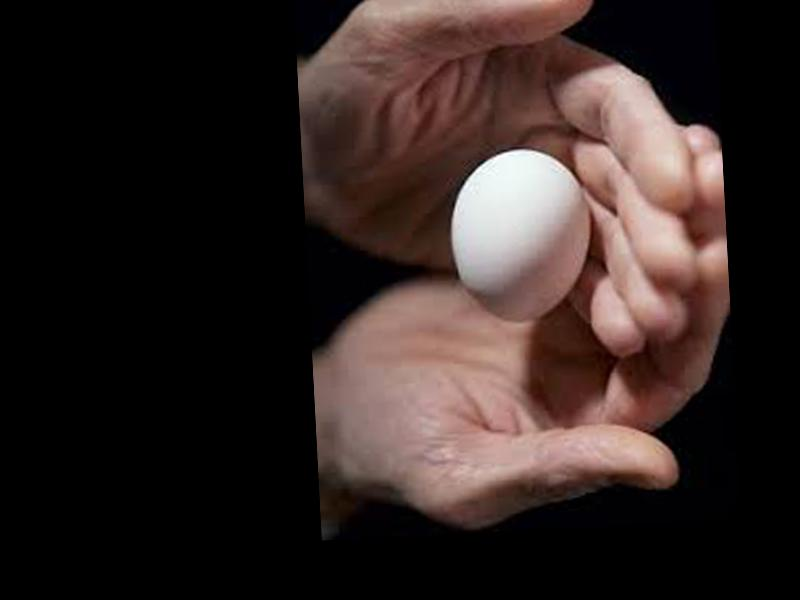Eggs: (445, 145, 593, 323)
